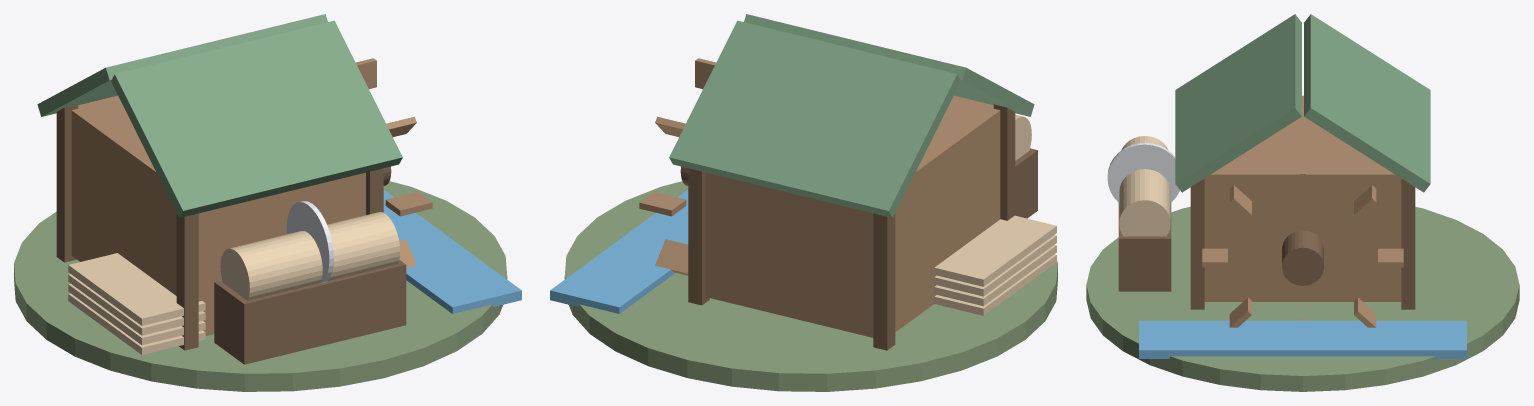
File: building_lumber_mill.glb
3 renders of one model, left to right at view 1: azimuth 30°, elevation 25°; view 2: azimuth 150°, elevation 25°; view 3: azimuth 270°, elevation 25°, orthographic. The views are drawn at different scales.
Visible parts, largest first — view 1: Cube.007, Cylinder, Cube.001, Cube.016, Cylinder.002, Cube, Cube.020, Cube.006, Cube.002, Cube.003, Cylinder.003, Cube.019 (+5 smaller); view 2: Cube.006, Cube.001, Cylinder, Cube, Cube.020, Cube.007, Cube.003, Cube.005, Cube.002, Cube.016, Cube.017, Cube.018 (+5 smaller); view 3: Cylinder, Cube.001, Cube.006, Cube.007, Cube, Cylinder.002, Cube.016, Cylinder.003, Cylinder.001, Cube.004, Cube.005, Cube.008 (+5 smaller).
Boxes of the visible parts, x1=… form: Cube.007: x1=111, y1=20, x2=402, y2=217; Cylinder: x1=14, y1=181, x2=507, y2=391; Cube.001: x1=71, y1=95, x2=365, y2=335; Cube.016: x1=214, y1=260, x2=406, y2=364; Cylinder.002: x1=220, y1=212, x2=400, y2=300; Cube: x1=383, y1=189, x2=521, y2=313; Cube.020: x1=68, y1=253, x2=205, y2=325; Cube.006: x1=37, y1=14, x2=327, y2=116; Cube.002: x1=176, y1=213, x2=198, y2=350; Cube.003: x1=56, y1=104, x2=78, y2=262; Cylinder.003: x1=286, y1=201, x2=333, y2=283; Cube.019: x1=68, y1=274, x2=205, y2=335; Cube.006: x1=669, y1=20, x2=960, y2=217; Cube.001: x1=706, y1=95, x2=1000, y2=337; Cylinder: x1=564, y1=181, x2=1057, y2=391; Cube: x1=550, y1=189, x2=688, y2=313; Cube.020: x1=934, y1=215, x2=1056, y2=286; Cube.007: x1=744, y1=14, x2=1034, y2=116; Cube.003: x1=873, y1=213, x2=895, y2=350; Cube.005: x1=688, y1=168, x2=709, y2=305; Cube.002: x1=993, y1=104, x2=1015, y2=220; Cube.016: x1=1015, y1=148, x2=1037, y2=218; Cube.017: x1=934, y1=254, x2=1056, y2=315; Cube.018: x1=934, y1=244, x2=1056, y2=306; Cylinder: x1=1086, y1=206, x2=1519, y2=391; Cube.001: x1=1204, y1=95, x2=1401, y2=301; Cube.006: x1=1304, y1=14, x2=1430, y2=192; Cube.007: x1=1175, y1=14, x2=1301, y2=192; Cube: x1=1139, y1=320, x2=1466, y2=358; Cylinder.002: x1=1119, y1=136, x2=1170, y2=236; Cube.016: x1=1118, y1=203, x2=1171, y2=291; Cylinder.003: x1=1107, y1=142, x2=1179, y2=202; Cylinder.001: x1=1282, y1=230, x2=1323, y2=285; Cube.004: x1=1190, y1=178, x2=1204, y2=309; Cube.005: x1=1401, y1=178, x2=1415, y2=309; Cube.008: x1=1378, y1=248, x2=1403, y2=267.
Bounding box in the file's own units: 3.7 × 2.16 × 3.7.
